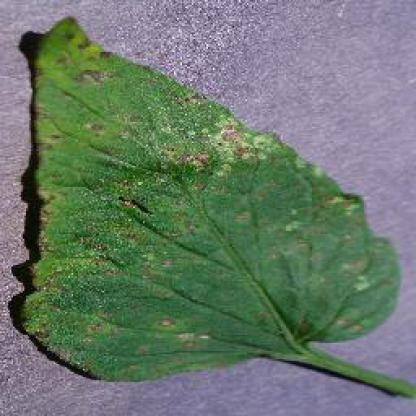bad leaf: (29, 57, 408, 404), (30, 194, 146, 342), (122, 101, 314, 189), (55, 146, 176, 258), (27, 15, 162, 96), (48, 84, 175, 167), (116, 298, 271, 358), (275, 144, 368, 230), (314, 225, 380, 319)
